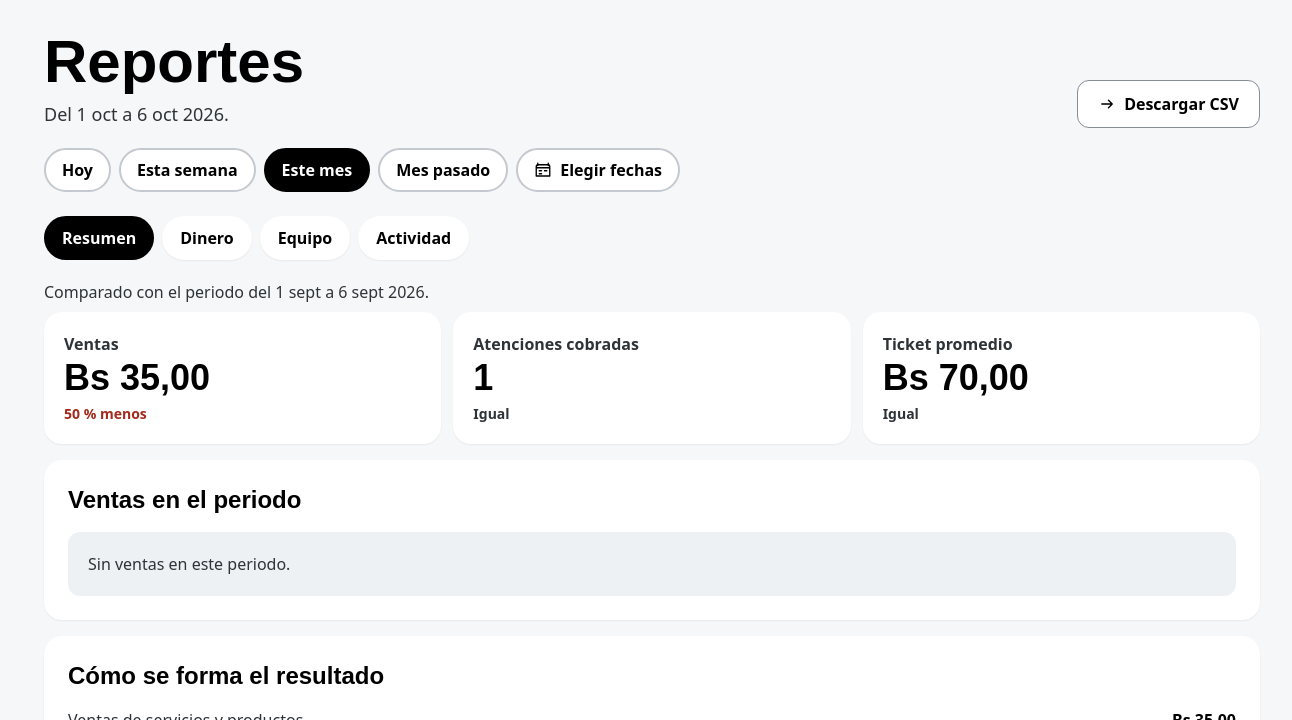
Scenario: ReportsPage › switches periods with one tap and keeps them in the address
expect the tab "Resumen" is shown: met, box x1=44 y1=216 x2=154 y2=260
Click the button "Mes pasado".
click(443, 170)  # box x1=378 y1=148 x2=508 y2=192
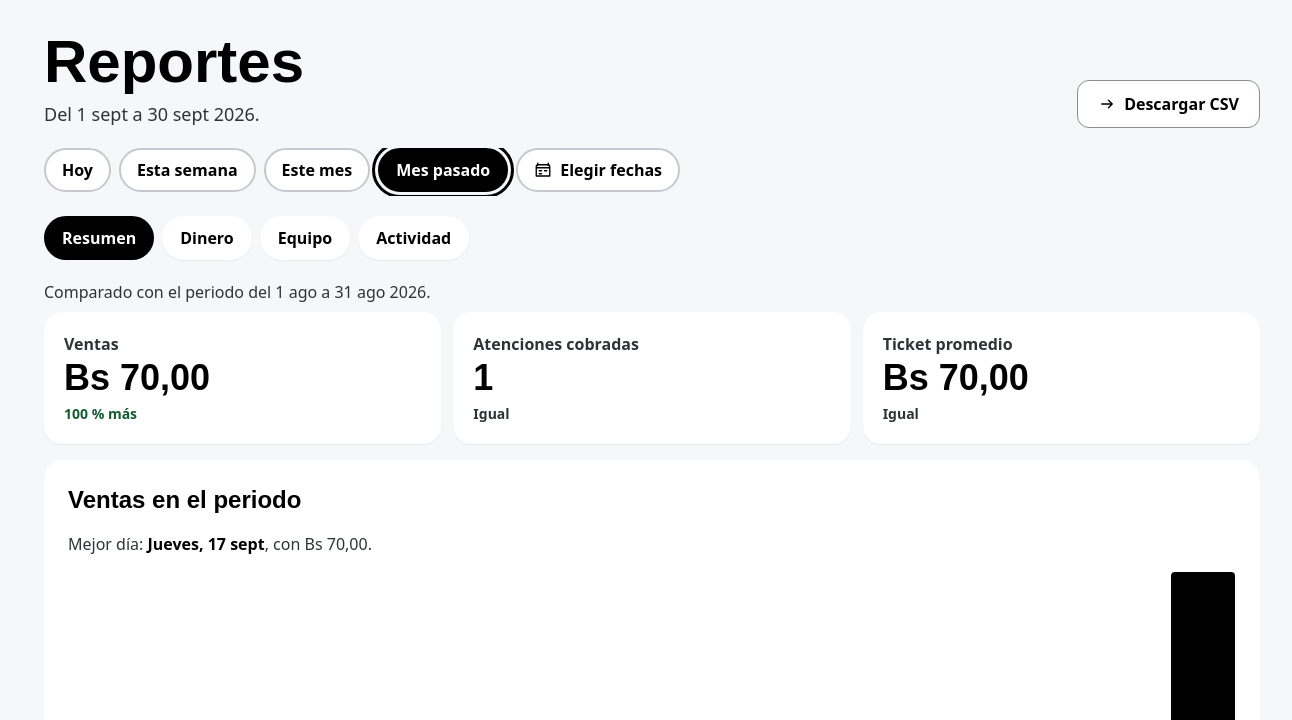
Click the button "Elegir fechas".
click(598, 170)  # box x1=516 y1=148 x2=680 y2=192
(page scrolled)
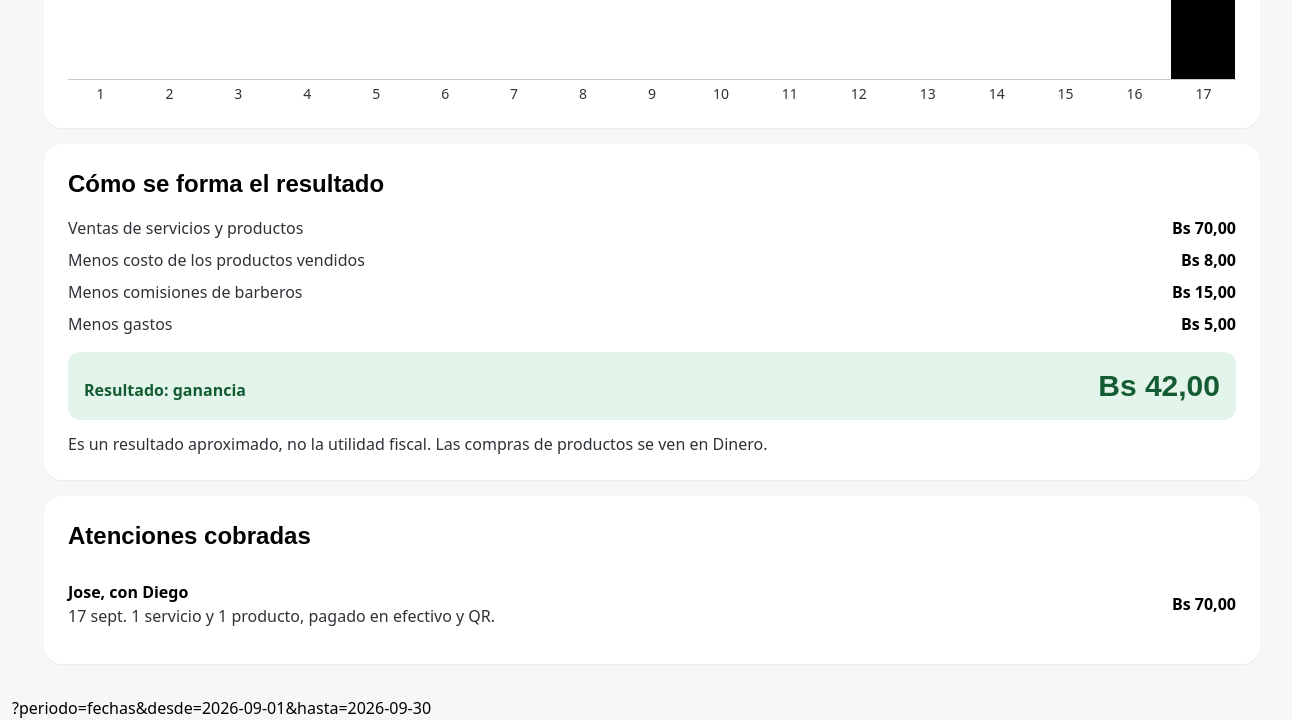
expect the text with test id "location" shows "periodo=fechas": met, box x1=12 y1=697 x2=431 y2=719
